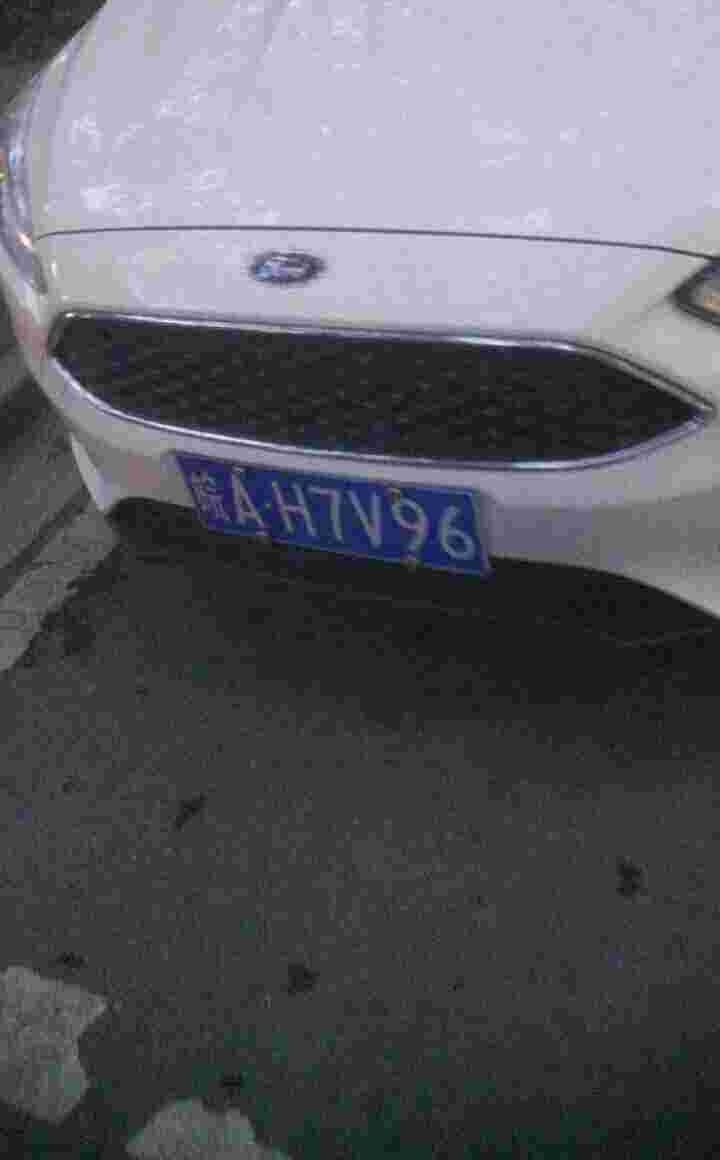license_plate: (176, 444, 477, 572)
